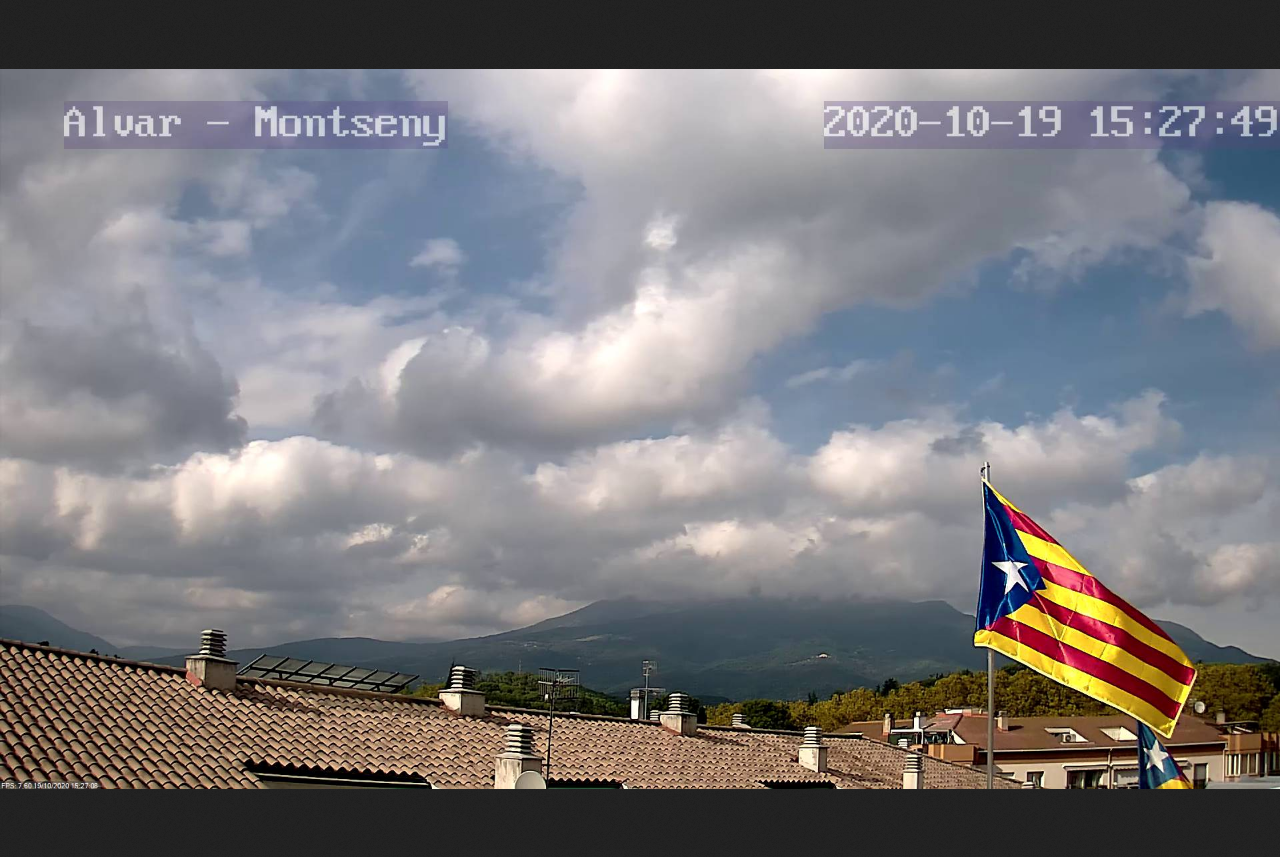maybe: (976, 478, 1190, 741)
